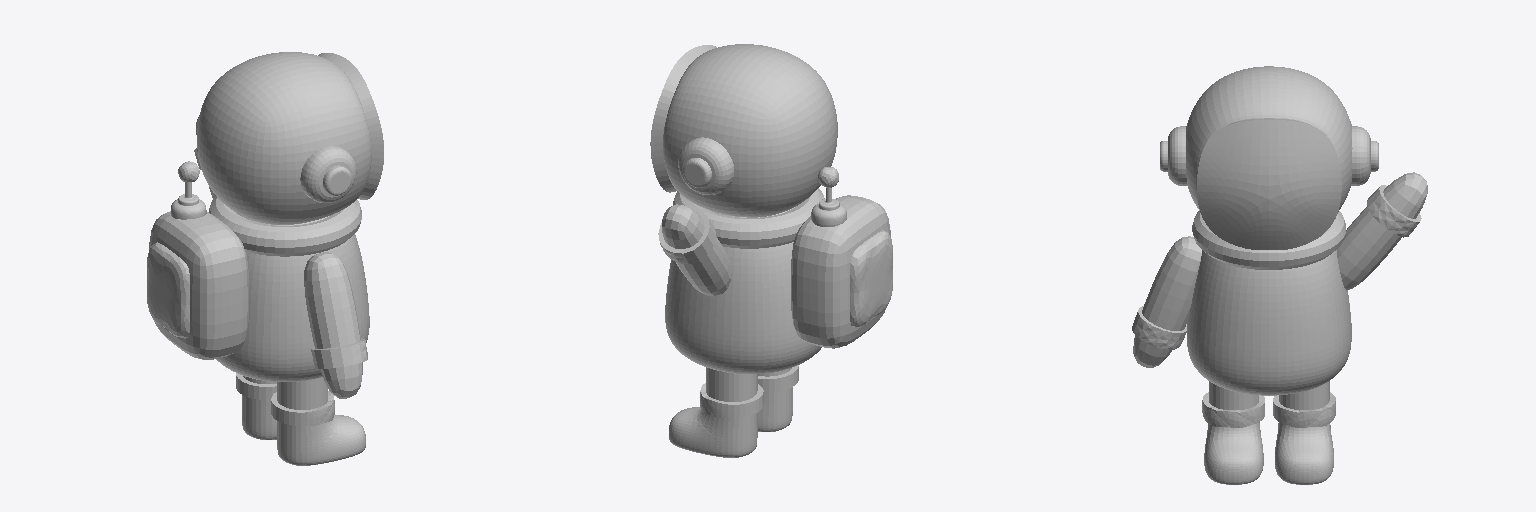
The model's file is astronaut_edge.obj.
3 views of the same model, side by side, from view 1: azimuth 30°, elevation 25°; view 2: azimuth 150°, elevation 25°; view 3: azimuth 270°, elevation 25° (orthographic).
Parts seen in each view (by area): view 1: Torus; view 2: Torus; view 3: Torus.
Part boxes in pixels (x1,y1,x2,y2): Torus: (147,52,383,465); Torus: (650,44,892,457); Torus: (1132,66,1427,484).
Bounding box in the file's own units: 1.99 × 3.56 × 2.49.